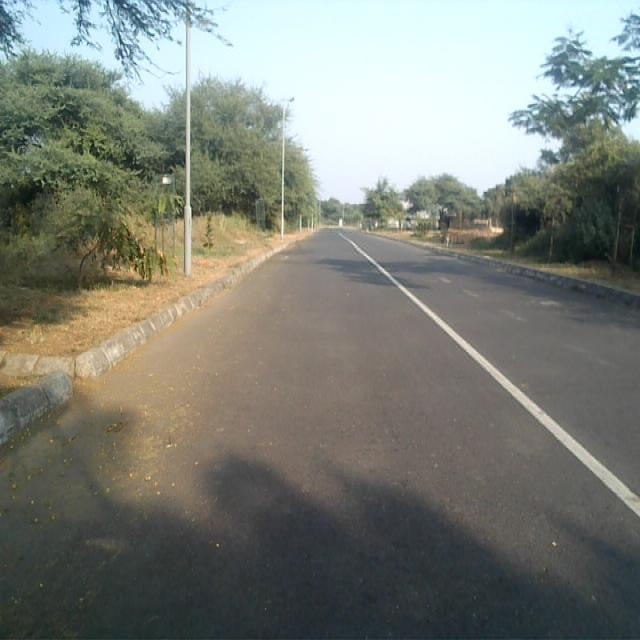lane: (0, 233, 640, 640)
